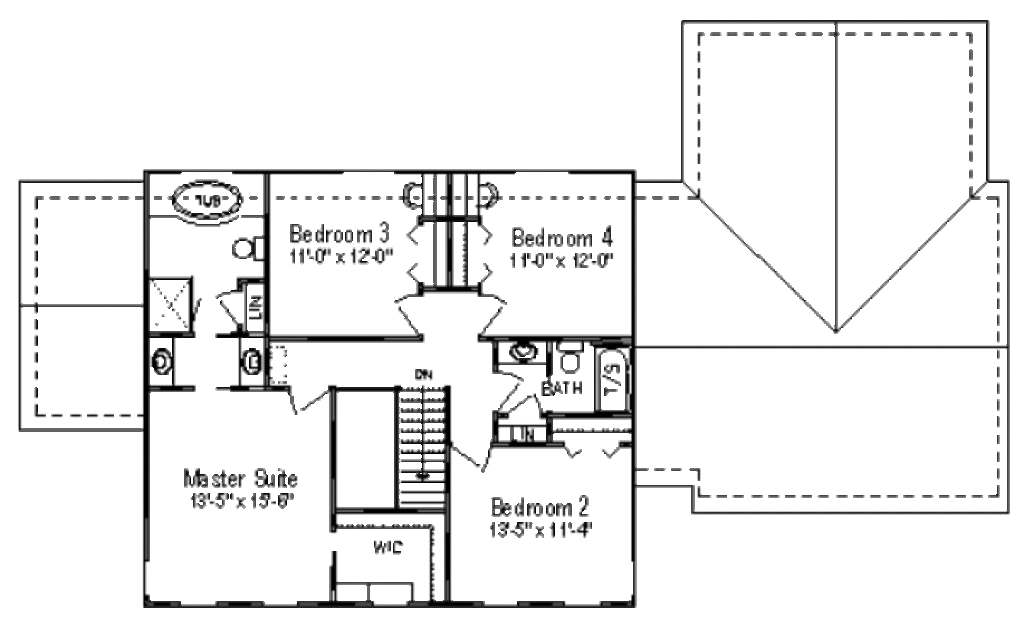door: (281, 378, 325, 414), (391, 292, 423, 339), (480, 289, 506, 339), (455, 443, 495, 472), (494, 372, 523, 410)
large_sink: (227, 228, 266, 270), (553, 339, 588, 377)
small_sink: (231, 337, 272, 396), (144, 329, 174, 389), (492, 339, 548, 370)
stairs: (395, 369, 450, 514)
tub: (163, 173, 248, 228), (594, 341, 631, 417)
windows: (338, 169, 399, 179), (513, 166, 569, 176)
